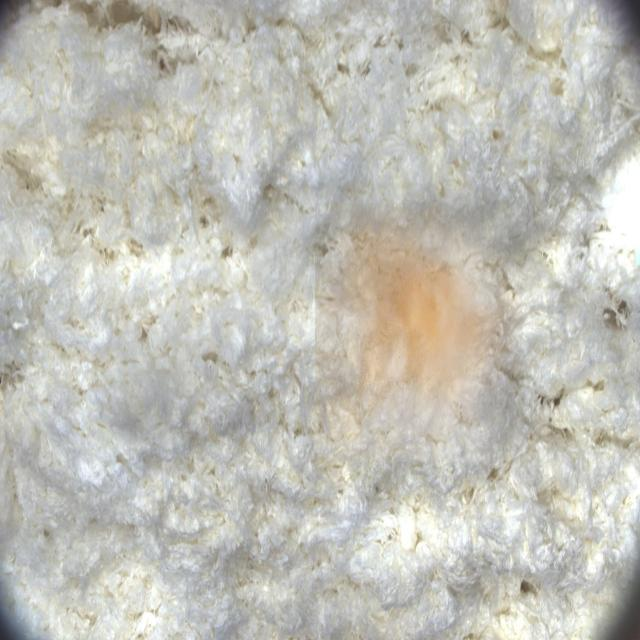dust: (315, 203, 523, 462)
